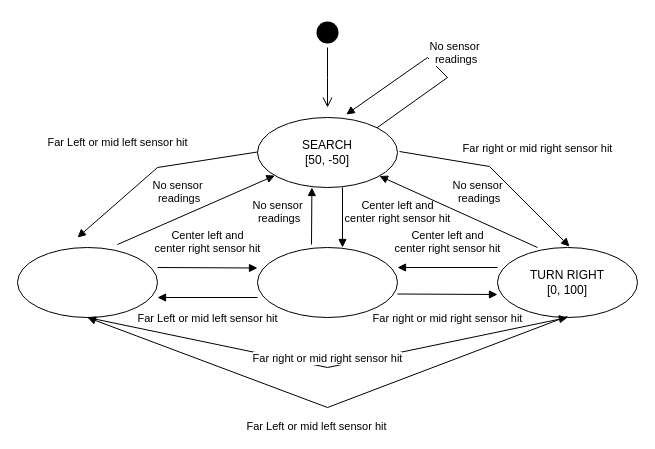
This 655x449 diagram has some shape labels left out. The shapes that lost their labels are listed below. From the top down, each one's centre as x and y in pixels, then its label:
(x=87, y=282): TURN LEFT [100, 0]
(x=327, y=282): FORWARD [100, 100]
